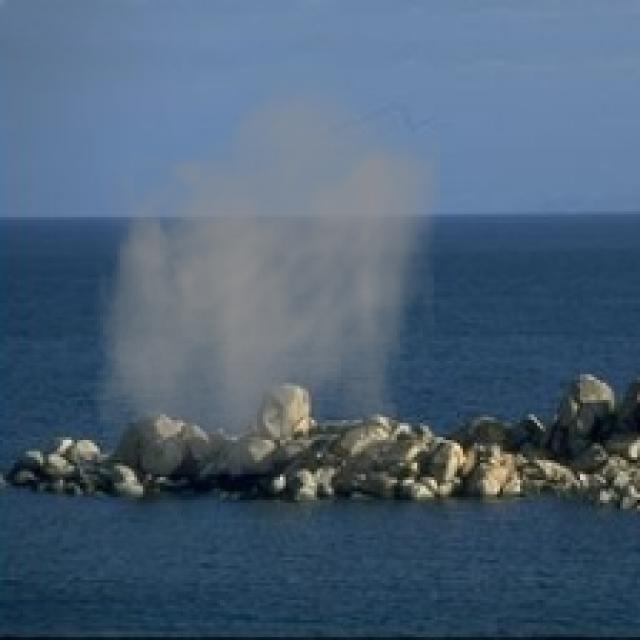smoke: (94, 66, 440, 474)
